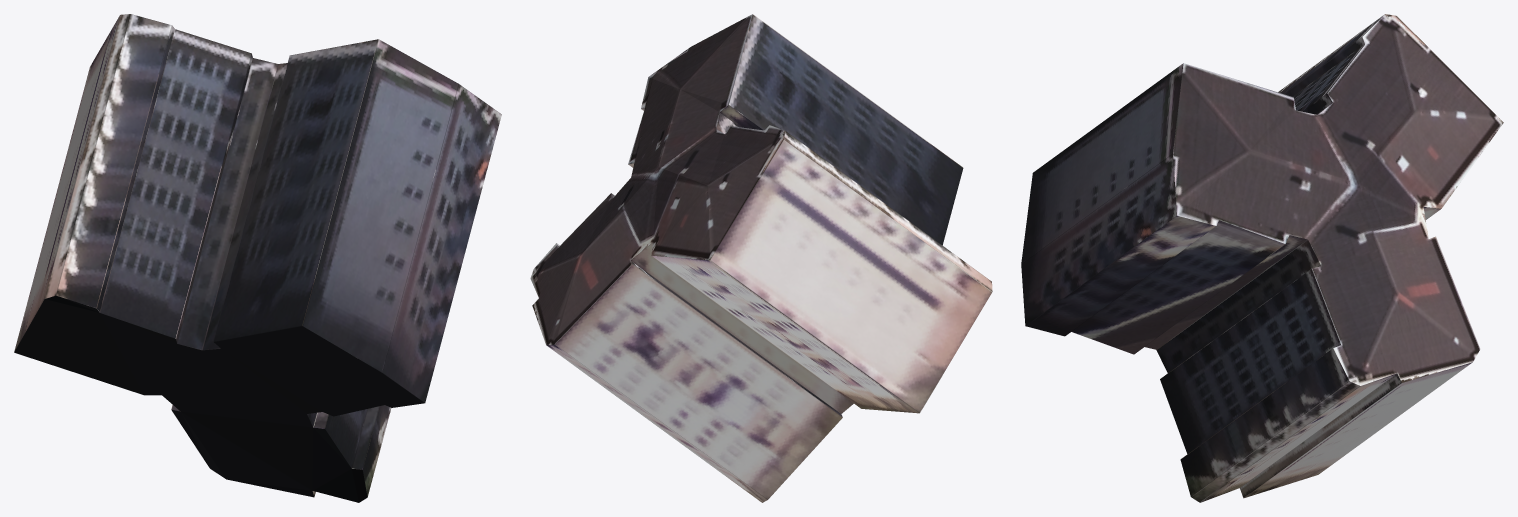
3 renders of one model, left to right at view 1: azimuth 30°, elevation 25°; view 2: azimuth 150°, elevation 25°; view 3: azimuth 270°, elevation 25°, orthographic. The views are drawn at different scales.
Bounding box in the file's own units: 41.7 × 41.28 × 40.07.
Materials: 1 (1 with a texture image).
